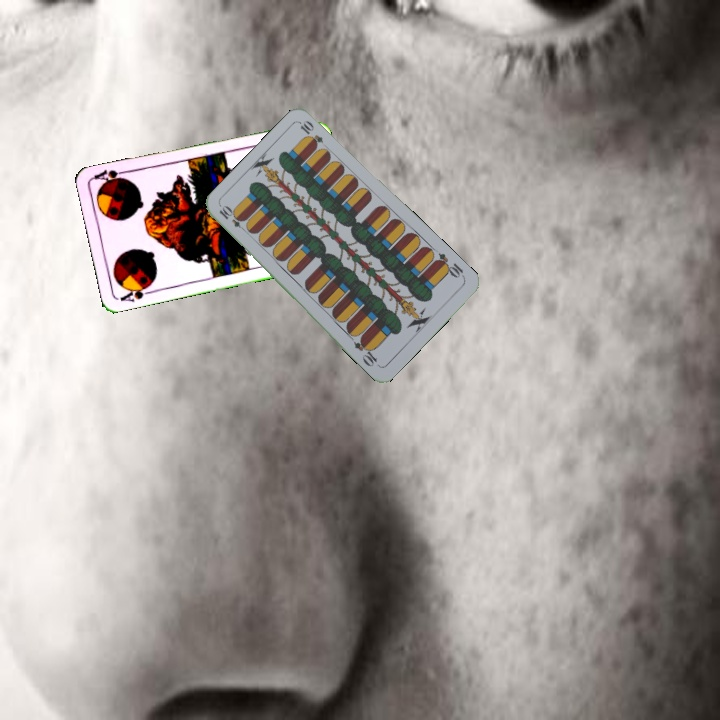E10: (215, 202, 250, 235), (431, 249, 467, 281)
SA: (116, 280, 156, 304)
